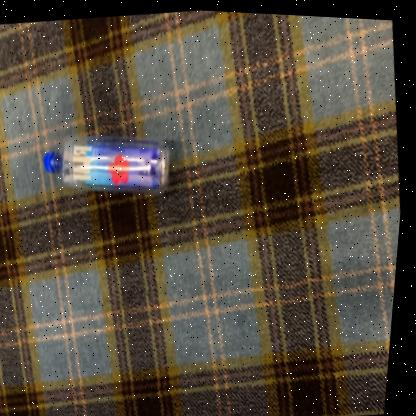Plastic: (45, 134, 171, 192)
